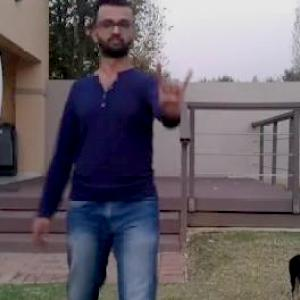takeoff-hand: (148, 54, 201, 128)
